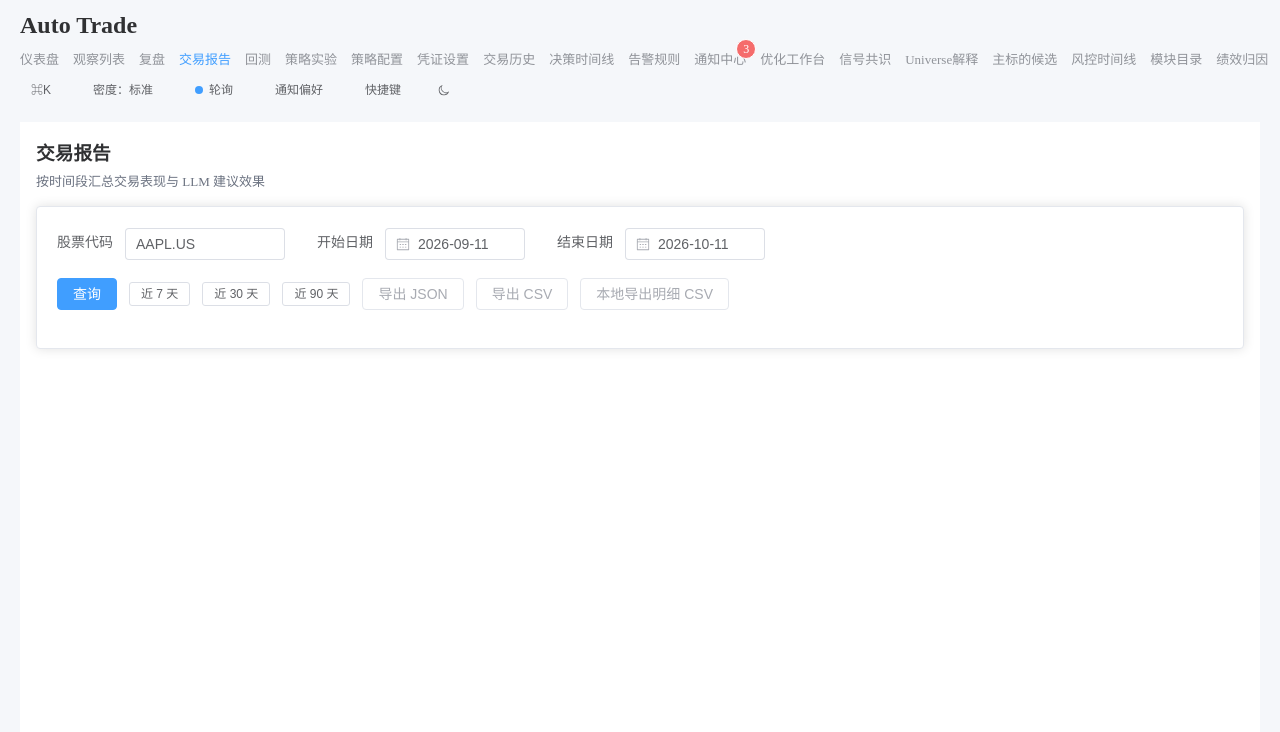
Test: Statistics quality warnings › warns when the service omits its quality contract
The image size is (1280, 732).
Click the button with test id "reports-search".
click(87, 294)  # box [57, 278, 117, 310]
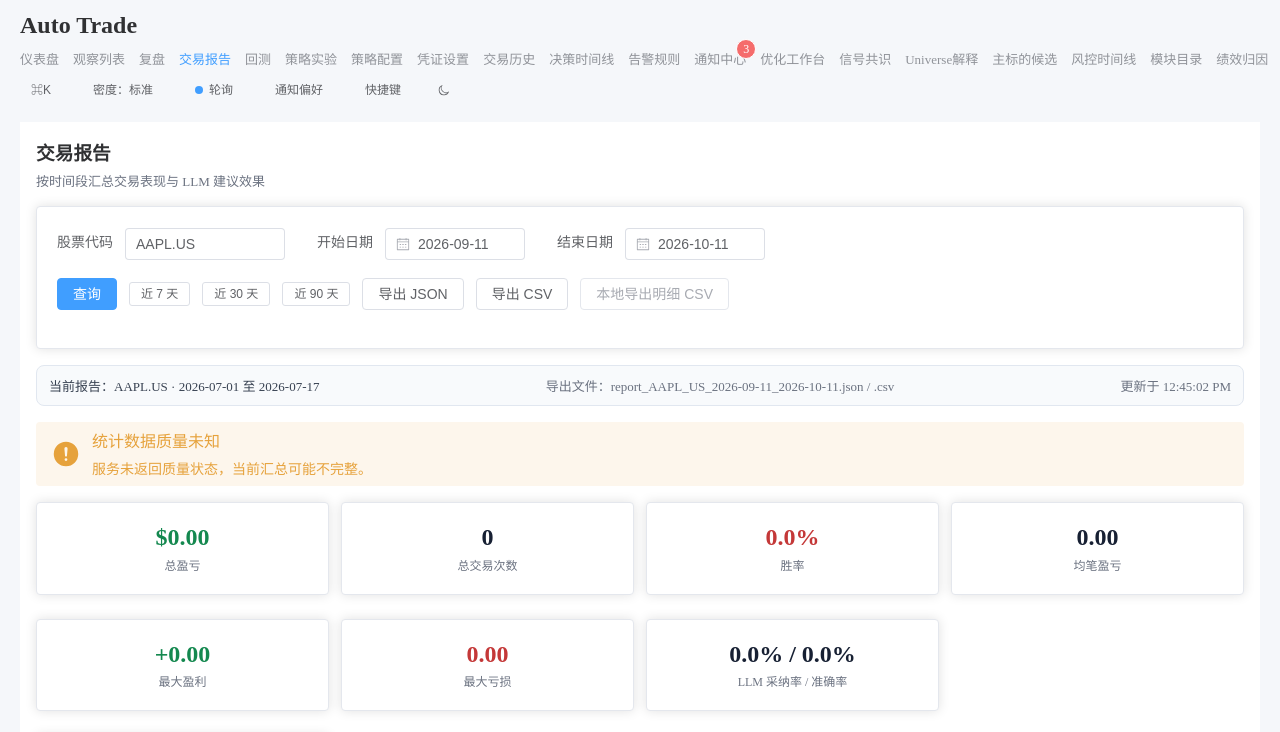
Now the text with test id "statistics-quality-alert" reads "统计数据质量未知", box [92, 433, 220, 450]
